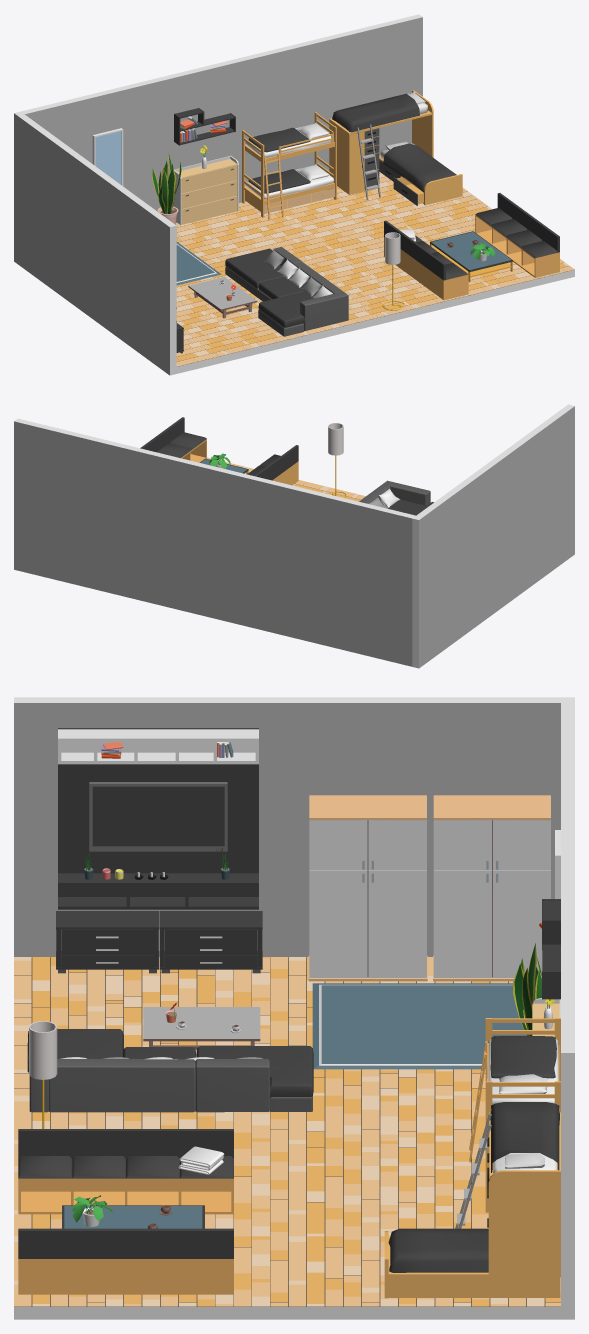
Rendered from room_11.glb.
3 renders of one model, top to bottom at view 1: azimuth 30°, elevation 25°; view 2: azimuth 150°, elevation 25°; view 3: azimuth 270°, elevation 25°, orthographic. The views are drawn at different scales.
Visible parts, largest first — view 1: Walls_192.001, Walls_192.002, bed_023.001, bed_024.001, sofa_028.004, Walls_011.014, floor_015.050, floor_015.048, tv_wall_024.001, shelf_077.001, floor_015.049, floor_015.046 (+13 smaller); view 2: Walls_192.001, Walls_192.002, tv_wall_024.001, sofa_028.004, tv_wall_024.002, lamp_floor_011.001; view 3: Walls_192.002, bed_023.001, closet_038.002, closet_038.001, sofa_028.004, carpet_009.001, tv_wall_024.002, Walls_040.016, tv_wall_024.001, floor_015.053, Walls_011.014, floor_015.050 (+24 smaller).
Part boxes in pixels (x1,y1,x2,y2): Walls_192.001: (21,14,422,211); Walls_192.002: (14,111,176,375); bed_023.001: (329,90,462,205); bed_024.001: (242,112,336,220); sofa_028.004: (225,247,348,336); Walls_011.014: (176,176,574,373); floor_015.050: (191,201,337,261); floor_015.048: (280,186,417,252); tv_wall_024.001: (475,193,559,277); shelf_077.001: (173,155,238,224); floor_015.049: (302,253,413,328); floor_015.046: (362,172,491,232); Walls_192.001: (14,418,415,666); Walls_192.002: (412,404,574,668); tv_wall_024.001: (140,417,206,462); sofa_028.004: (359,480,433,515); tv_wall_024.002: (247,445,298,485); lamp_floor_011.001: (325,423,346,498); Walls_192.002: (14,697,574,957); bed_023.001: (384,1102,560,1298); closet_038.002: (308,795,427,981); closet_038.001: (433,795,550,981); sofa_028.004: (27,1029,313,1112); carpet_009.001: (312,983,526,1069); tv_wall_024.002: (18,1129,233,1214); Walls_040.016: (58,728,258,896); tv_wall_024.001: (18,1228,233,1294); floor_015.053: (14,957,287,1025); Walls_011.014: (14,957,560,1319); floor_015.050: (288,1095,485,1165).
Bounding box in the file's own units: 12 × 4.2 × 8.
Materials: 1 (1 with a texture image).
